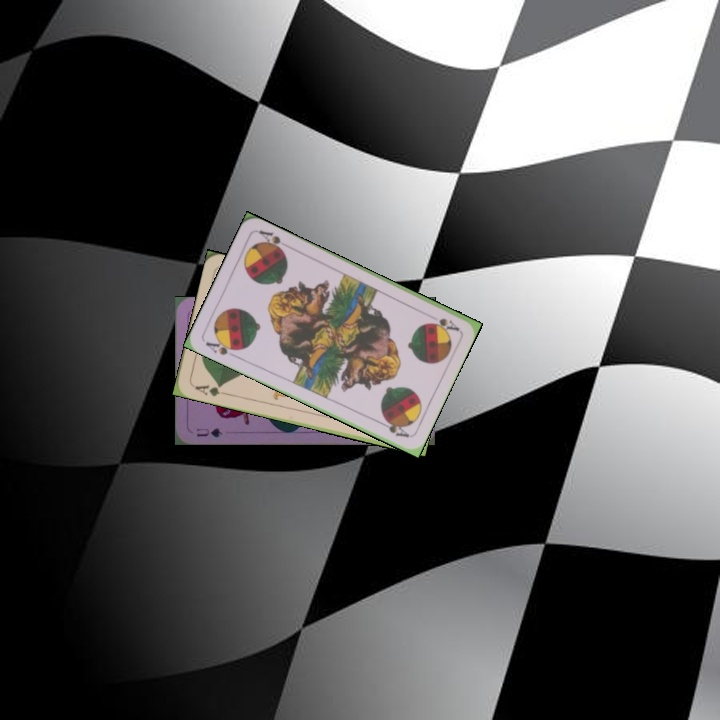GA: (189, 380, 229, 399)
GU: (193, 424, 225, 440)
SA: (201, 335, 242, 360), (427, 314, 462, 334)
